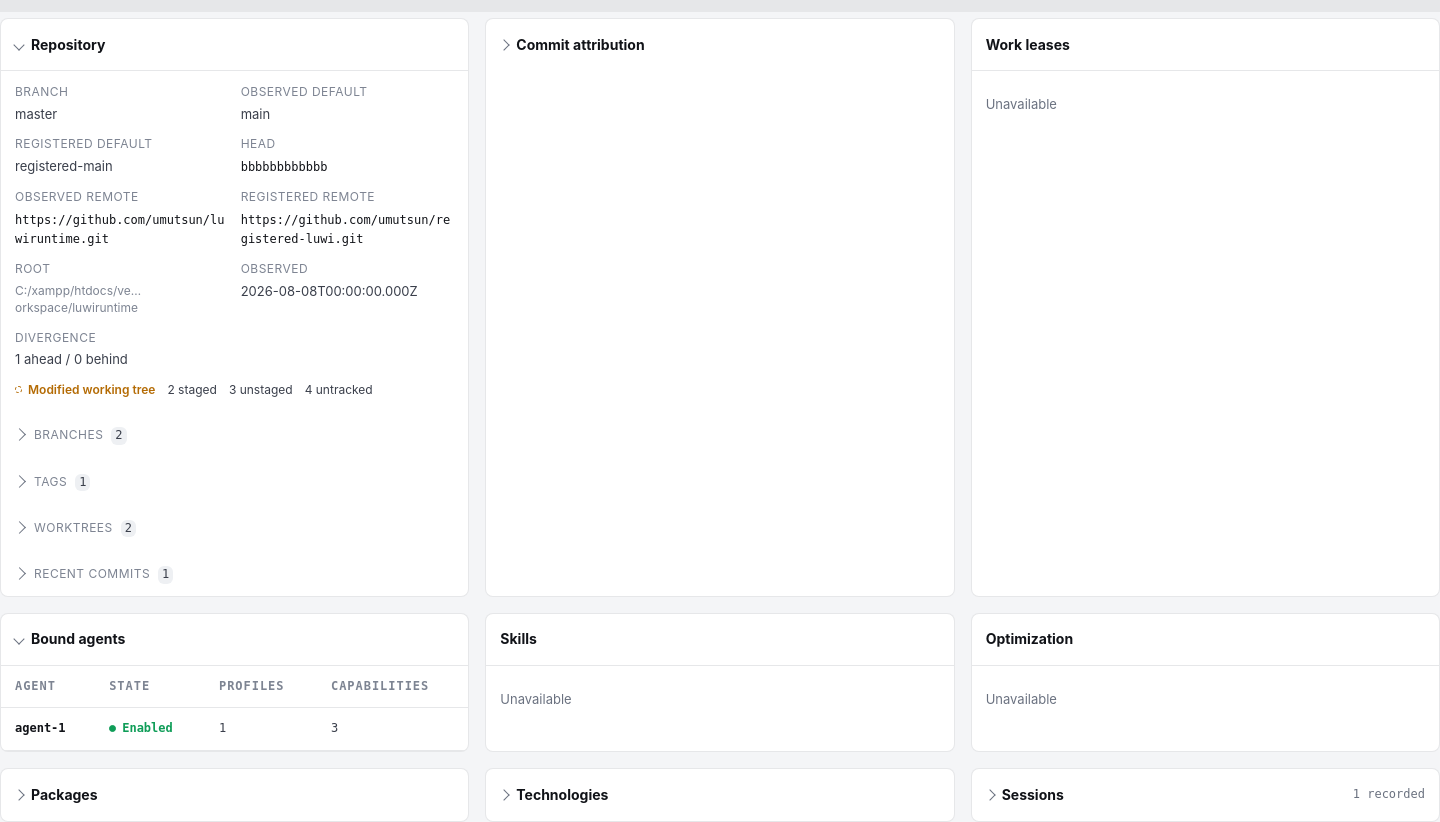
ProjectsView detail › lists only the selected project sessions
What coordinates should you click on to do the following:
click the button "Sessions"
I would click on:
 (1033, 794)
Its box is [986,784,1341,805].
(page scrolled)
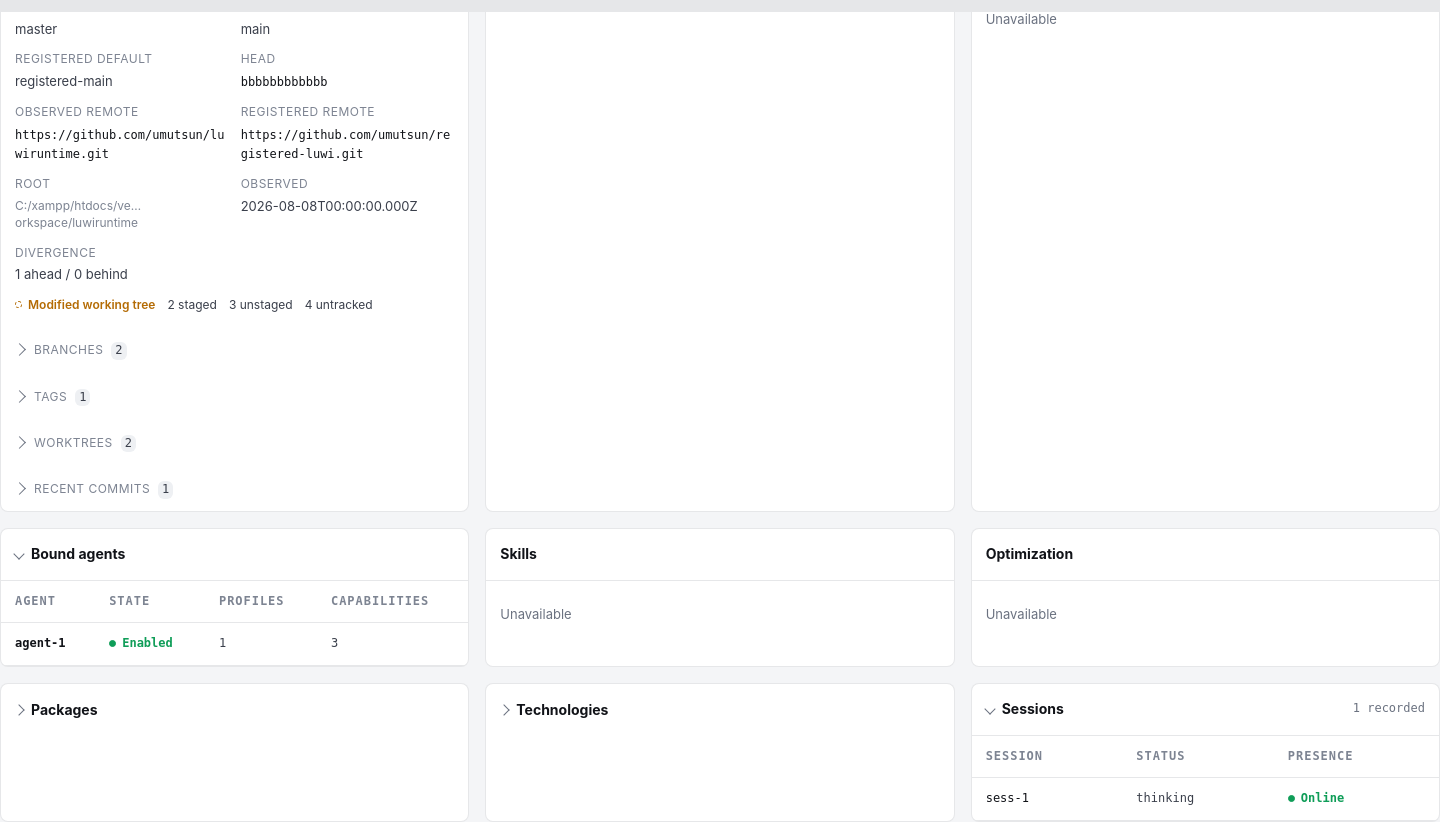
Now the text "sess-1" is shown, box [986,791,1029,805]
